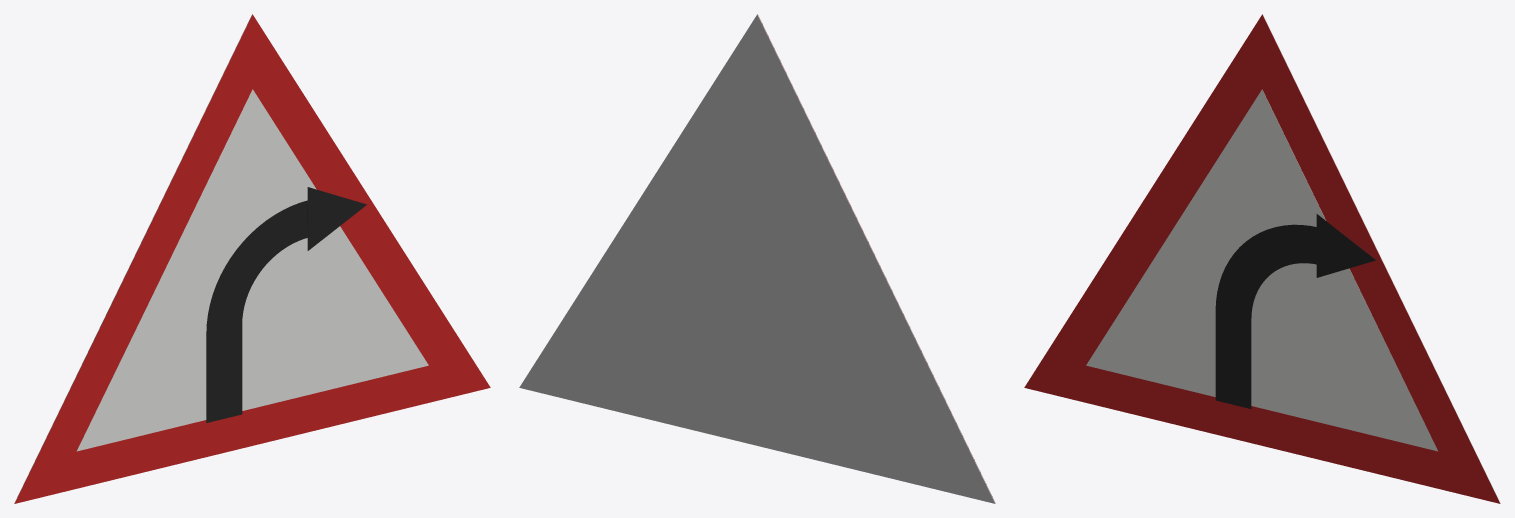
3 renders of one model, left to right at view 1: azimuth 30°, elevation 25°; view 2: azimuth 150°, elevation 25°; view 3: azimuth 330°, elevation 25°, orthographic.
Visible parts, largest first — view 1: A1_p01, A1_p00, A1_p02, A1_p03, A1_dos; view 2: A1_dos; view 3: A1_p01, A1_p00, A1_p02, A1_p03, A1_dos.
Boxes of the visible parts, <box> form: A1_p01: <box>76,89,428,451</box>; A1_p00: <box>14,14,490,503</box>; A1_p02: <box>206,200,307,422</box>; A1_p03: <box>307,187,366,250</box>; A1_dos: <box>14,14,252,503</box>; A1_dos: <box>519,14,995,503</box>; A1_p01: <box>1086,89,1438,451</box>; A1_p00: <box>1024,14,1500,503</box>; A1_p02: <box>1215,224,1316,408</box>; A1_p03: <box>1316,214,1375,277</box>; A1_dos: <box>1262,14,1500,503</box>.
Bounding box in the file's own units: 1 × 0.866 × 0.0029.
